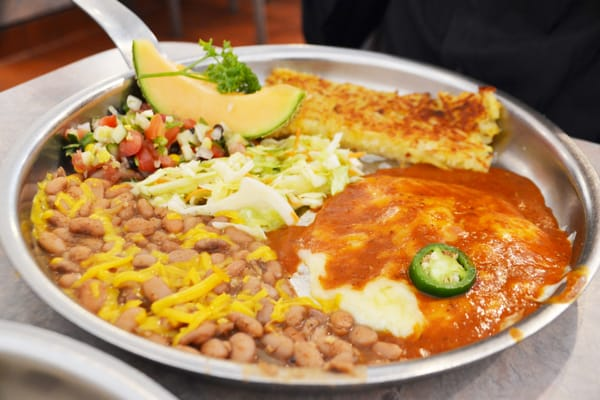curry: (192, 37, 263, 94)
